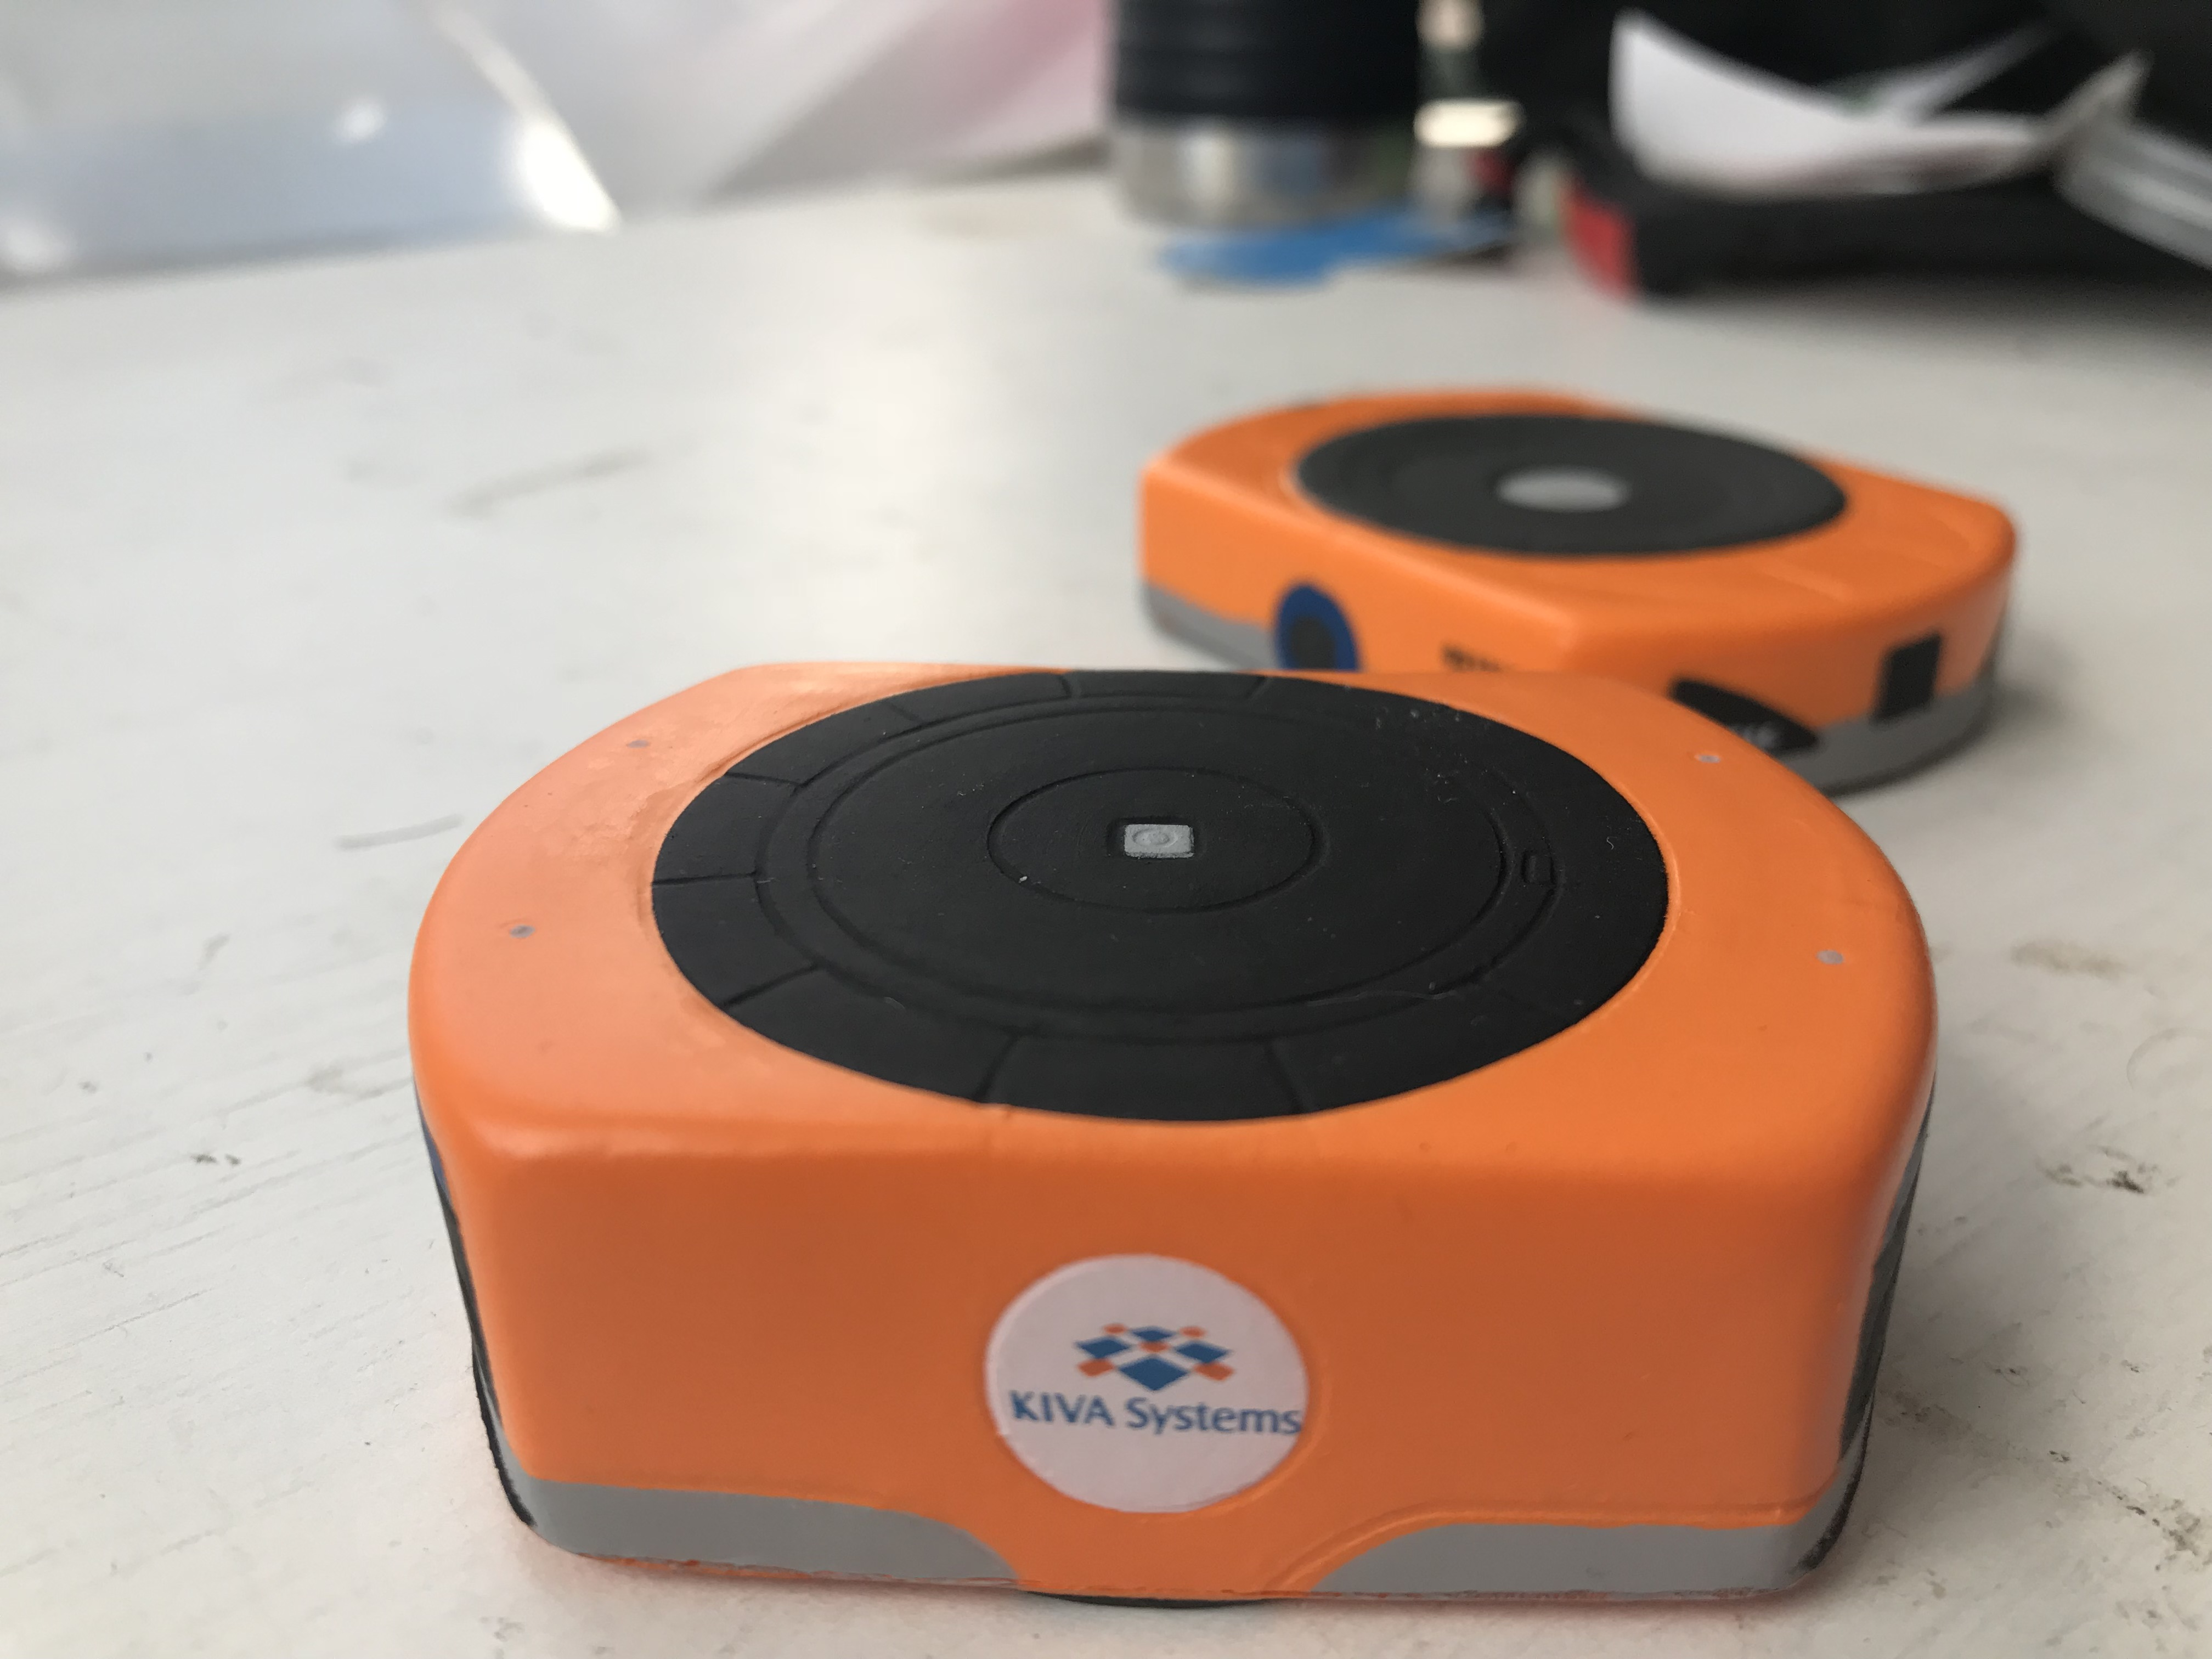amazon_bot: (364, 638, 1965, 1619)
